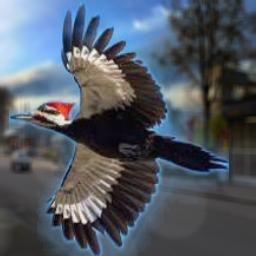Woodpecker: (9, 0, 229, 256)
